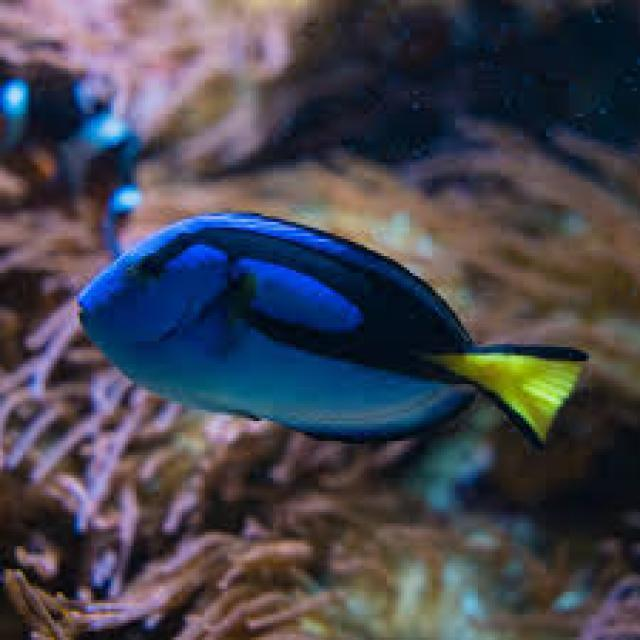BlueTang: (74, 212, 588, 444)
